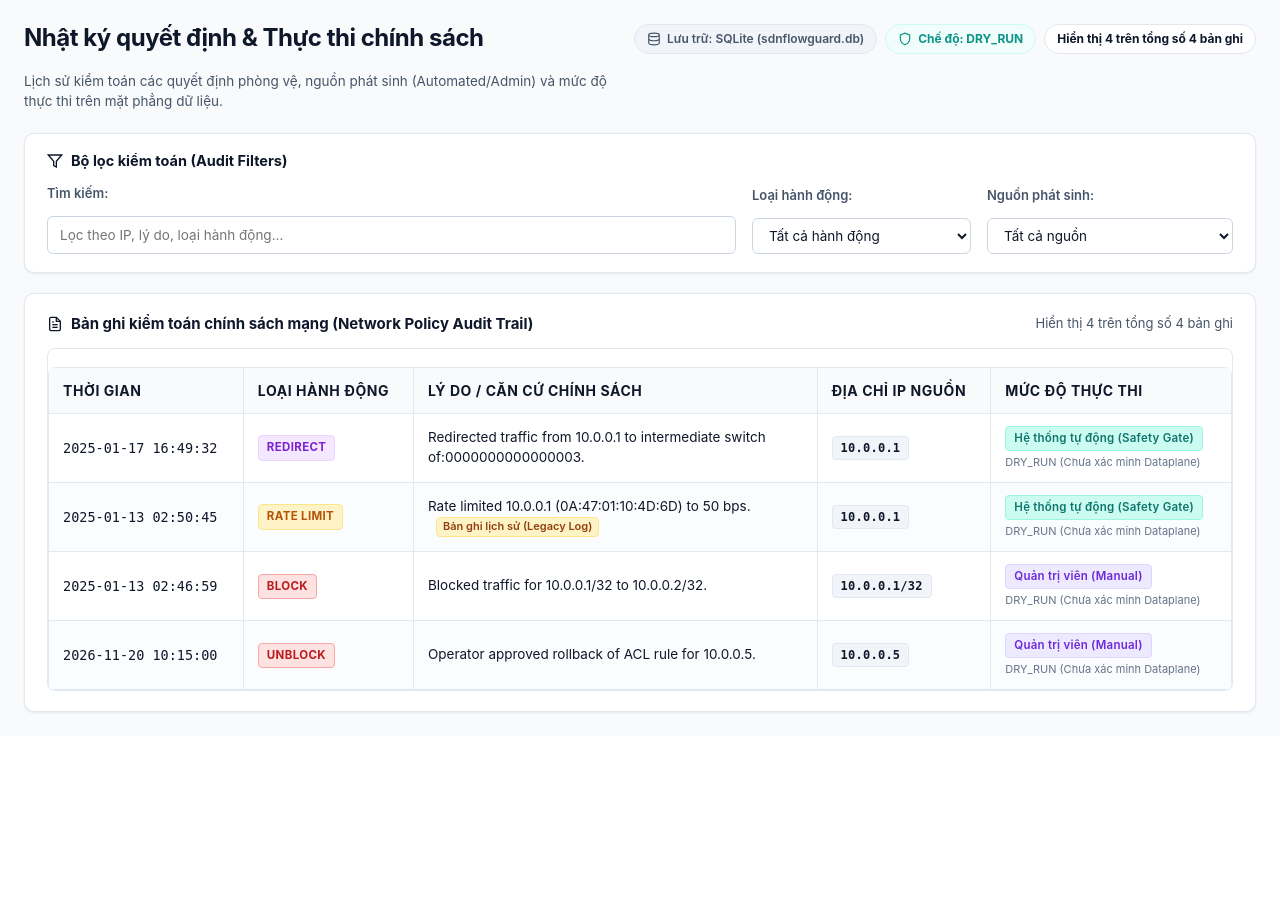
DecisionLogs Enterprise Layout & Audit Integrity › searches by IP keyword and resets filters properly
Expected: the text "Redirected traffic from 10.0.0.1" is shown, top-left (428, 429), bottom-right (766, 465)
Type "10.0.0.5" into the field with placeholder "Lọc theo IP, lý do, loại hành động..." at point(392, 235), box top-left (47, 216), bottom-right (736, 254)
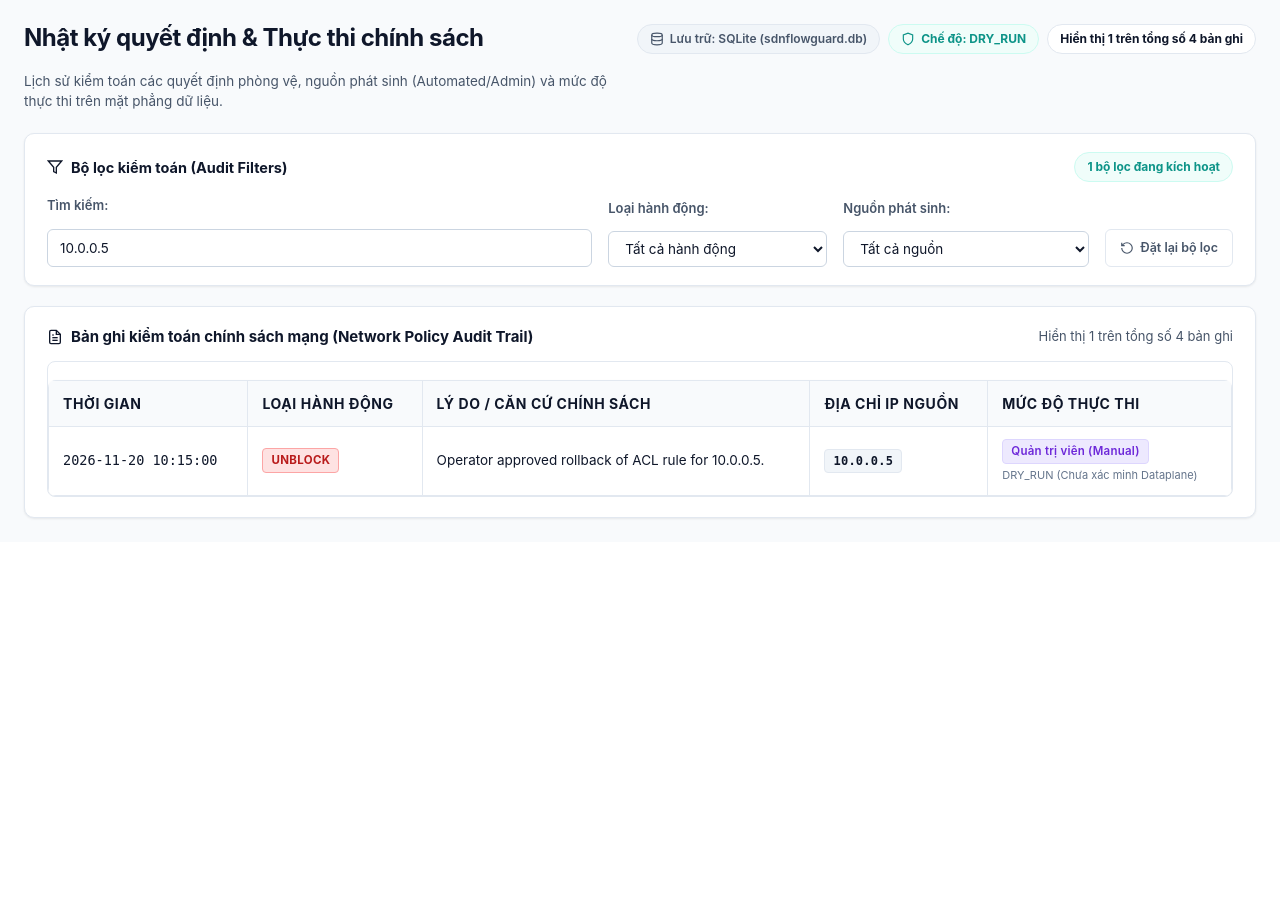
Expected: the text "Operator approved rollback of ACL rule for 10.0.0.5." is shown, top-left (422, 426), bottom-right (810, 495)
Expected: the text "10.0.0.1/32" is gone
# Reset button appears
Click the button titled "Đặt lại bộ lọc" at point(1169, 248), box top-left (1105, 229), bottom-right (1233, 267)
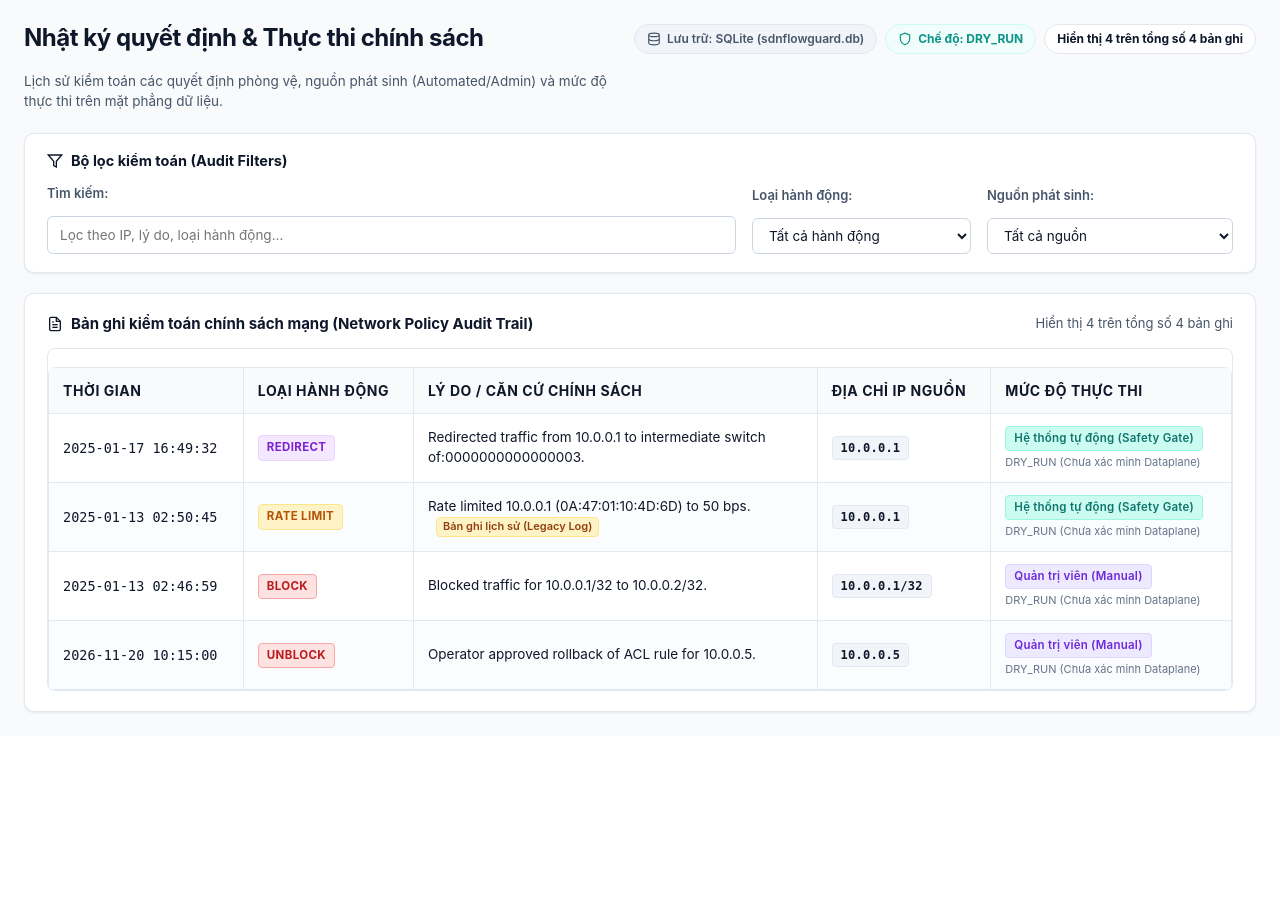
Expected: the field with placeholder "Lọc theo IP, lý do, loại hành động..." is empty, top-left (47, 216), bottom-right (736, 254)
Expected: the text "Blocked traffic for 10.0.0.1/32 to 10.0.0.2/32." is shown, top-left (414, 552), bottom-right (817, 621)
